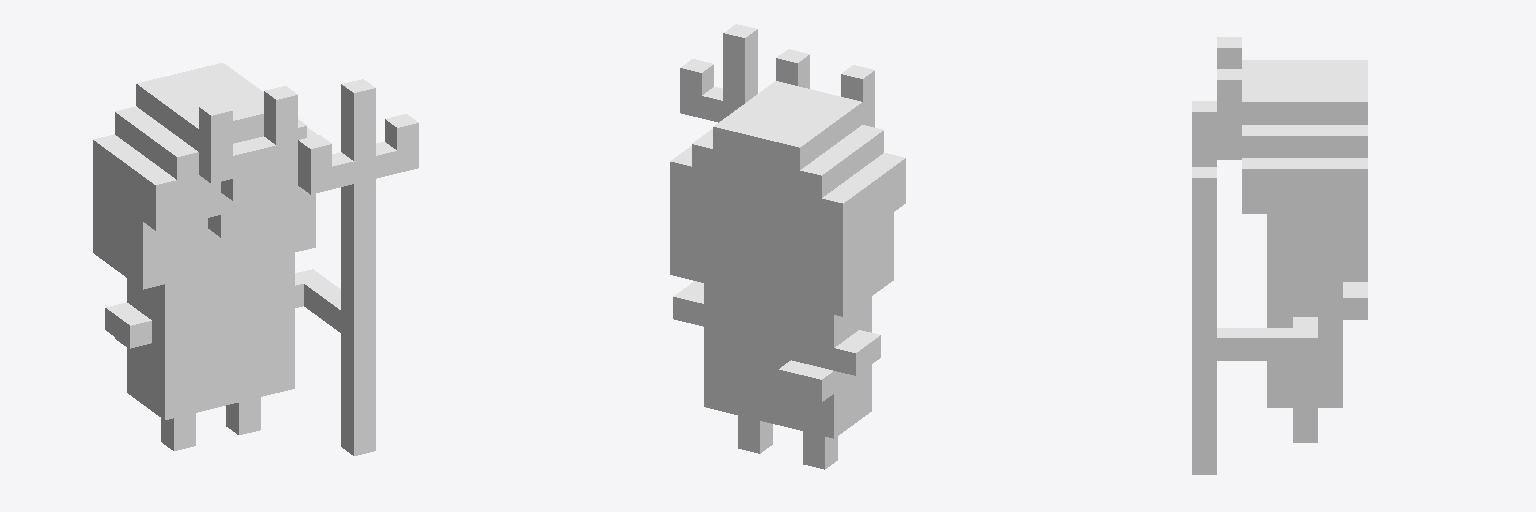
File: soldat.obj
The picture shows the model from 3 angles: view 1: azimuth 30°, elevation 25°; view 2: azimuth 150°, elevation 25°; view 3: azimuth 270°, elevation 25°; orthographic projection.
Size of the model in its own units: 11 by 16 by 7.